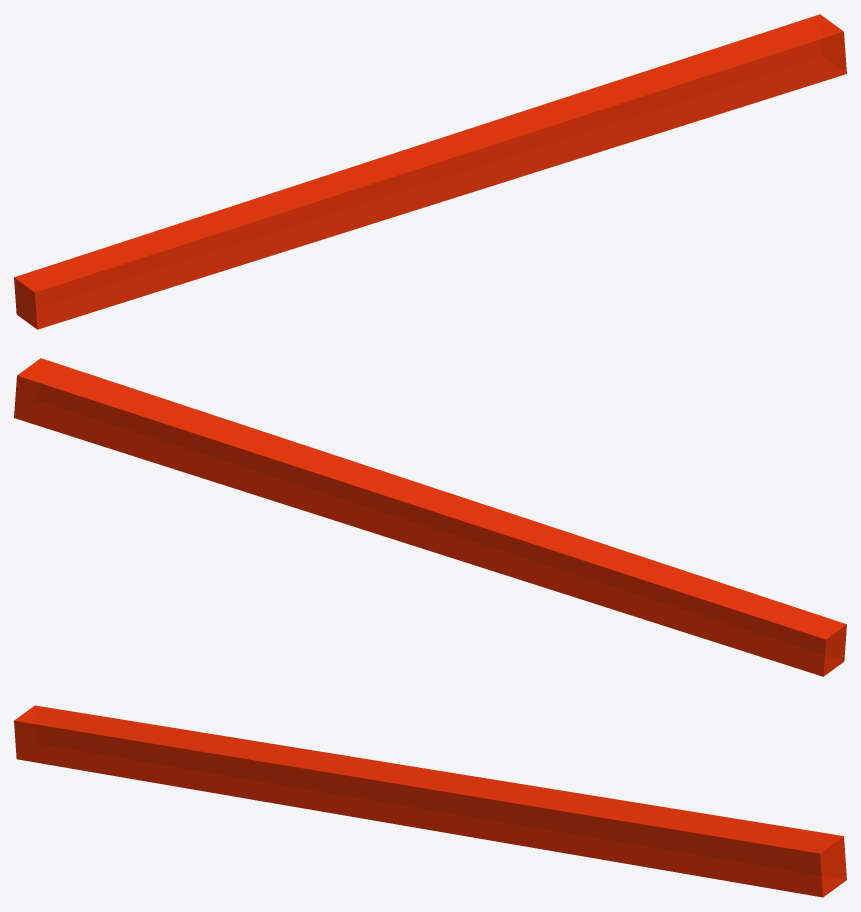
Rendered from Event_421127236_EErechit_37.fbx.
The picture shows the model from 3 angles, top to bottom: view 1: azimuth 30°, elevation 25°; view 2: azimuth 150°, elevation 25°; view 3: azimuth 330°, elevation 25°; orthographic projection.
Visible parts, largest first — view 1: Model; view 2: Model; view 3: Model.
Part boxes in pixels (x1=…): Model: x1=14, y1=14, x2=846, y2=329; Model: x1=14, y1=358, x2=846, y2=676; Model: x1=14, y1=705, x2=846, y2=897.
Bounding box in the file's own units: 1.62 × 0.1999 × 0.0828.
